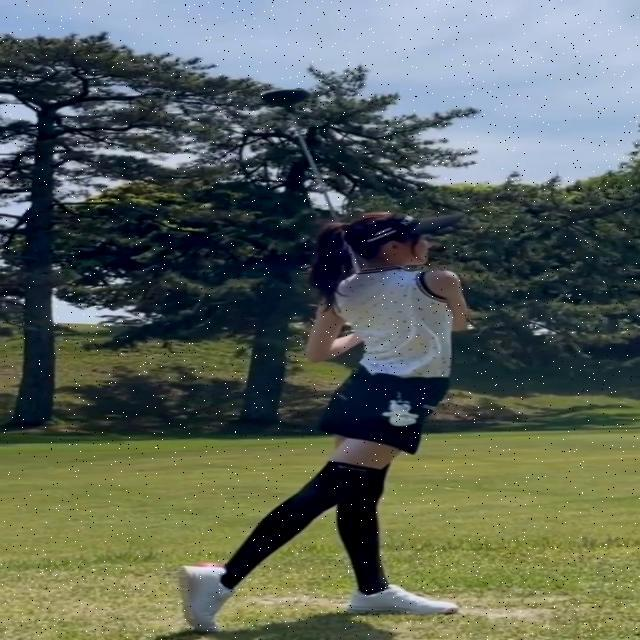golf club-handle: (261, 89, 362, 272)
golf club-head: (262, 88, 310, 107)
